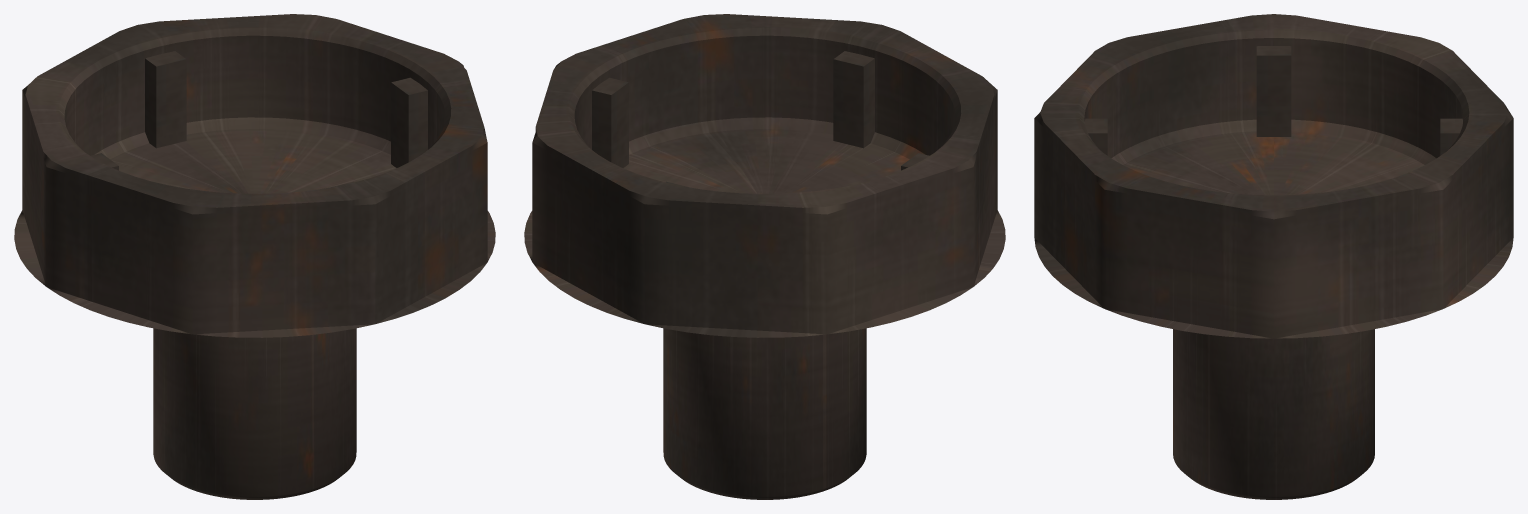
File: SM_CasseBit_10po.glb
The picture shows the model from 3 angles, left to right: view 1: azimuth 30°, elevation 25°; view 2: azimuth 150°, elevation 25°; view 3: azimuth 270°, elevation 25°; orthographic projection.
Parts seen in each view (by area): view 1: CasseBit_10po, CasseBit_10po_Ergots; view 2: CasseBit_10po, CasseBit_10po_Ergots; view 3: CasseBit_10po, CasseBit_10po_Ergots.
Boxes of the visible parts, box(x1,y1,x2,y2) form: CasseBit_10po: box(14, 14, 495, 499); CasseBit_10po_Ergots: box(90, 51, 427, 187); CasseBit_10po: box(524, 14, 1005, 499); CasseBit_10po_Ergots: box(592, 51, 929, 187); CasseBit_10po: box(1034, 14, 1513, 499); CasseBit_10po_Ergots: box(1085, 46, 1462, 155).
Size of the model in its own units: 0.3312 by 0.265 by 0.3312.
2 materials, 2 textured.
